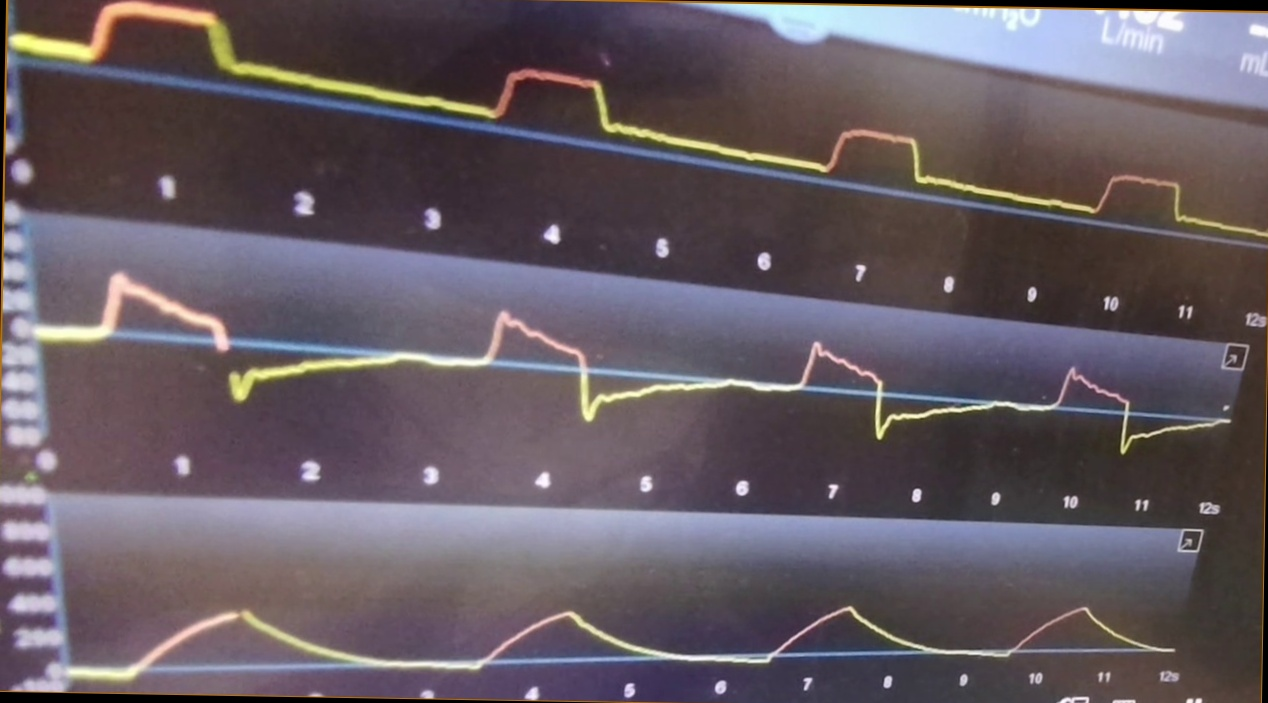Accumulation Flow: (42, 269, 1232, 460)
Volume: (62, 552, 1180, 687)
